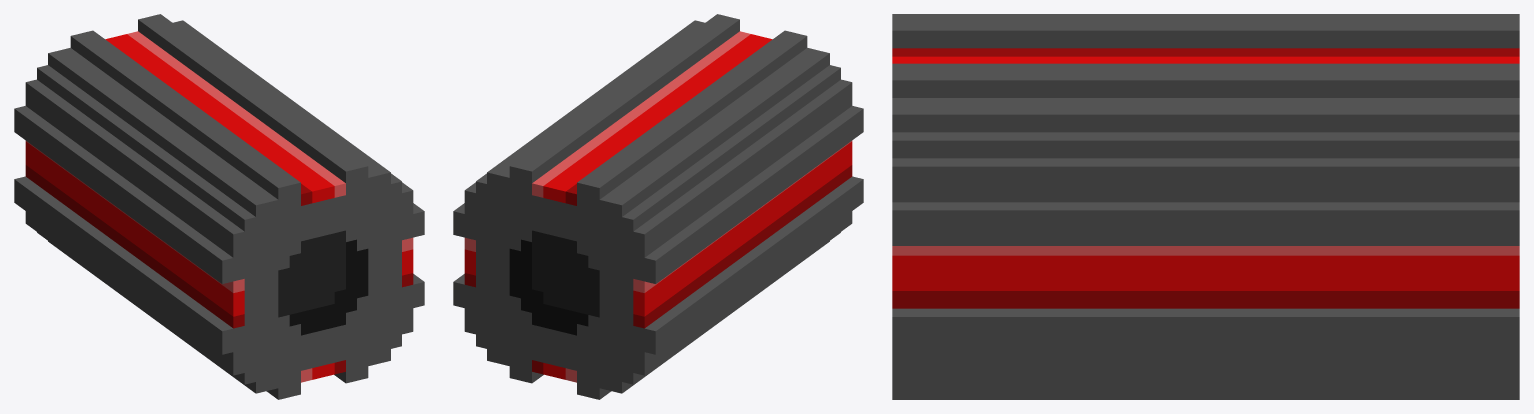
File: Pipe.obj
3 views of the same model, side by side, from view 1: azimuth 30°, elevation 25°; view 2: azimuth 150°, elevation 25°; view 3: azimuth 270°, elevation 25° (orthographic). The views are drawn at different scales.
Bounding box in the file's own units: 1.8 × 1.8 × 3.2.
1 material, 1 textured.
